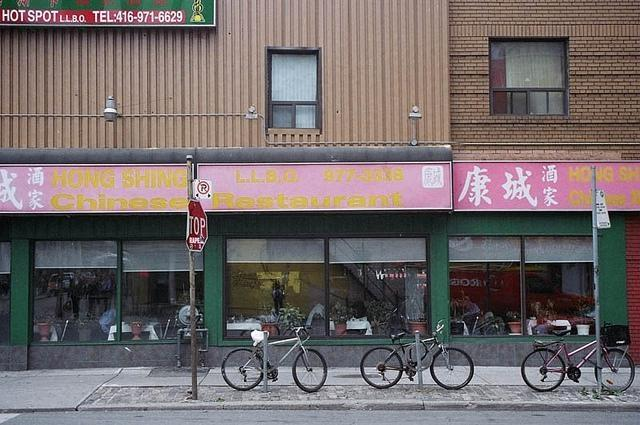bicycle: (360, 319, 474, 390), (521, 323, 635, 392), (221, 324, 328, 394)
